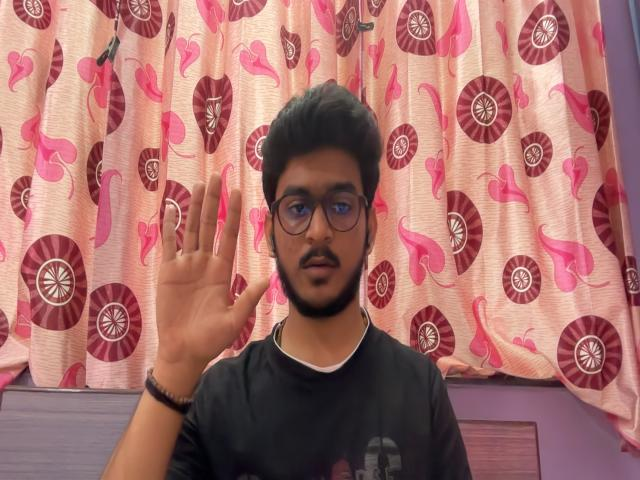Hello: (145, 162, 275, 370)
